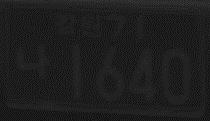0: (160, 48, 193, 105)
1: (64, 45, 88, 96), (129, 15, 150, 37)
4: (129, 49, 157, 99)
6: (95, 48, 124, 102)
7: (105, 14, 126, 34)
강원_O: (51, 13, 102, 40)
나: (16, 44, 51, 75)
